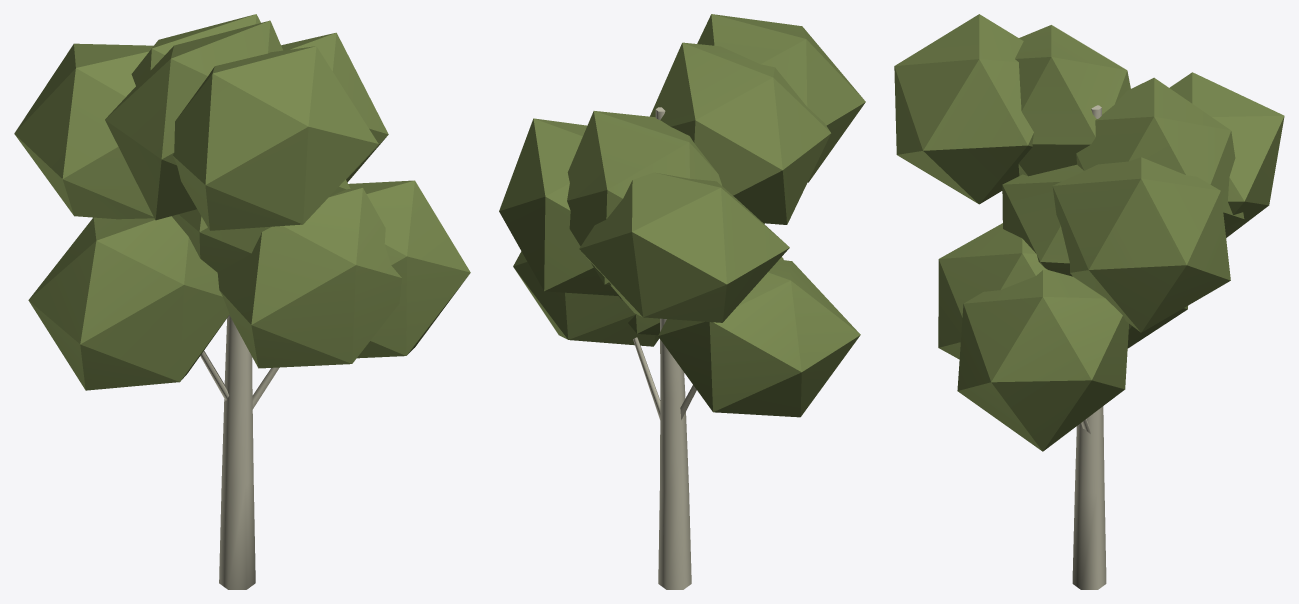
File: birch.glb
3 renders of one model, left to right at view 1: azimuth 30°, elevation 25°; view 2: azimuth 150°, elevation 25°; view 3: azimuth 270°, elevation 25°, orthographic. The views are drawn at different scales.
Visible parts, largest first — view 1: Берёза; view 2: Берёза; view 3: Берёза.
Part boxes in pixels (box(x1,y1,x2,y2)): Берёза: box(14, 14, 470, 589); Берёза: box(499, 14, 865, 589); Берёза: box(894, 14, 1284, 589).
Size of the model in its own units: 5.45 by 8.31 by 5.51.
